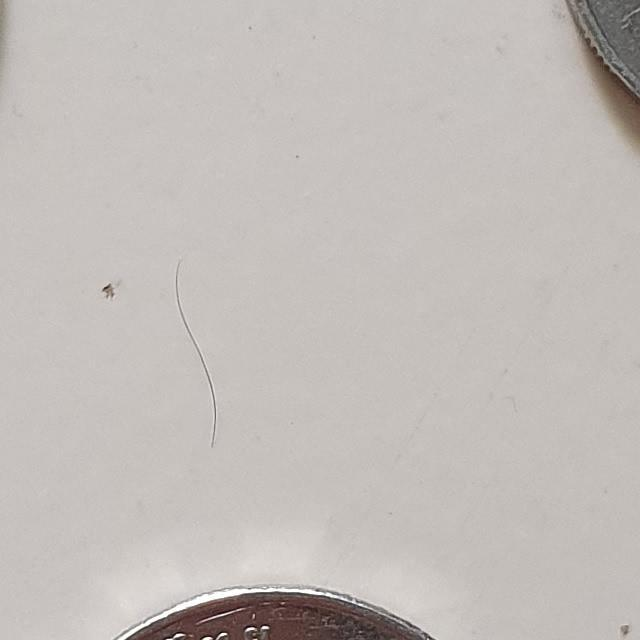10 Bath: (98, 585, 454, 640), (552, 1, 640, 105)
